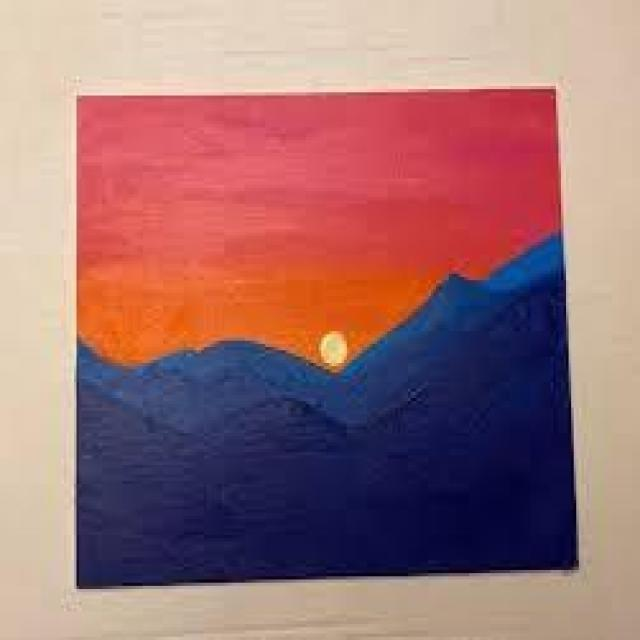painting: (74, 85, 579, 589)
